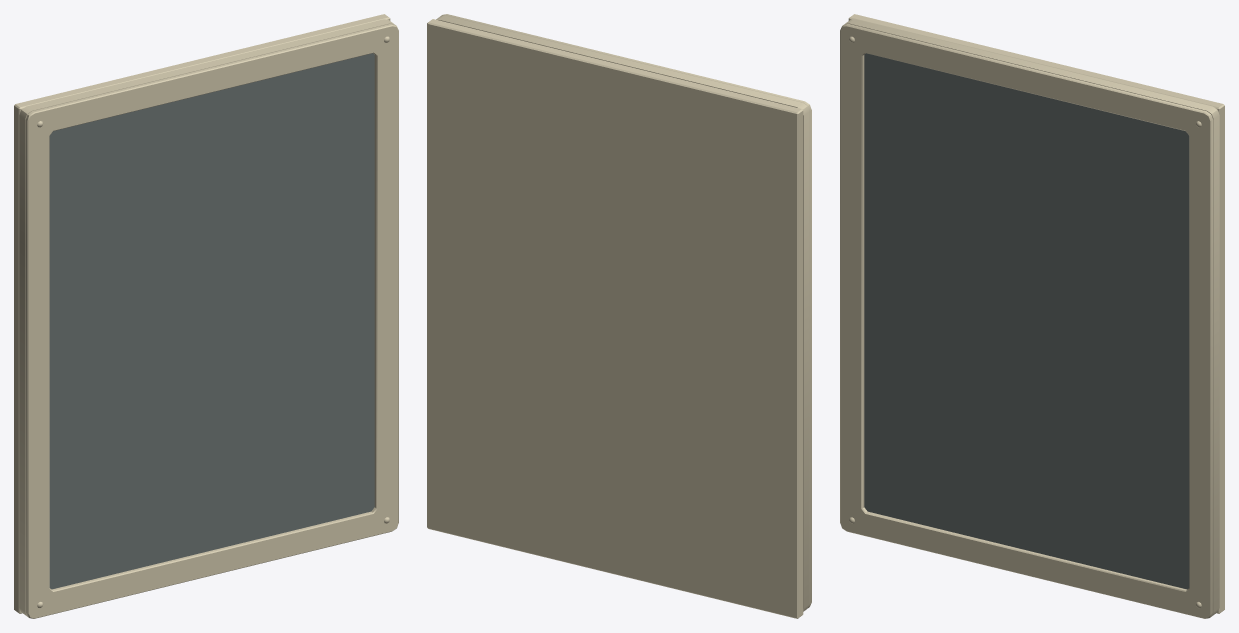
File: growth_chart.glb
The picture shows the model from 3 angles, left to right: view 1: azimuth 30°, elevation 25°; view 2: azimuth 150°, elevation 25°; view 3: azimuth 330°, elevation 25°; orthographic projection.
Parts seen in each view (by area): view 1: chart_image, chart_glass, chart_frame; view 2: chart_frame; view 3: chart_image, chart_glass, chart_frame.
Boxes of the visible parts, <box> form: chart_image: <box>49,53,374,589</box>; chart_glass: <box>50,53,374,588</box>; chart_frame: <box>14,14,398,618</box>; chart_frame: <box>427,14,811,618</box>; chart_image: <box>864,53,1189,589</box>; chart_glass: <box>864,53,1188,588</box>; chart_frame: <box>840,14,1224,618</box>.
Bounding box in the file's own units: 0.66 × 0.86 × 0.047.
